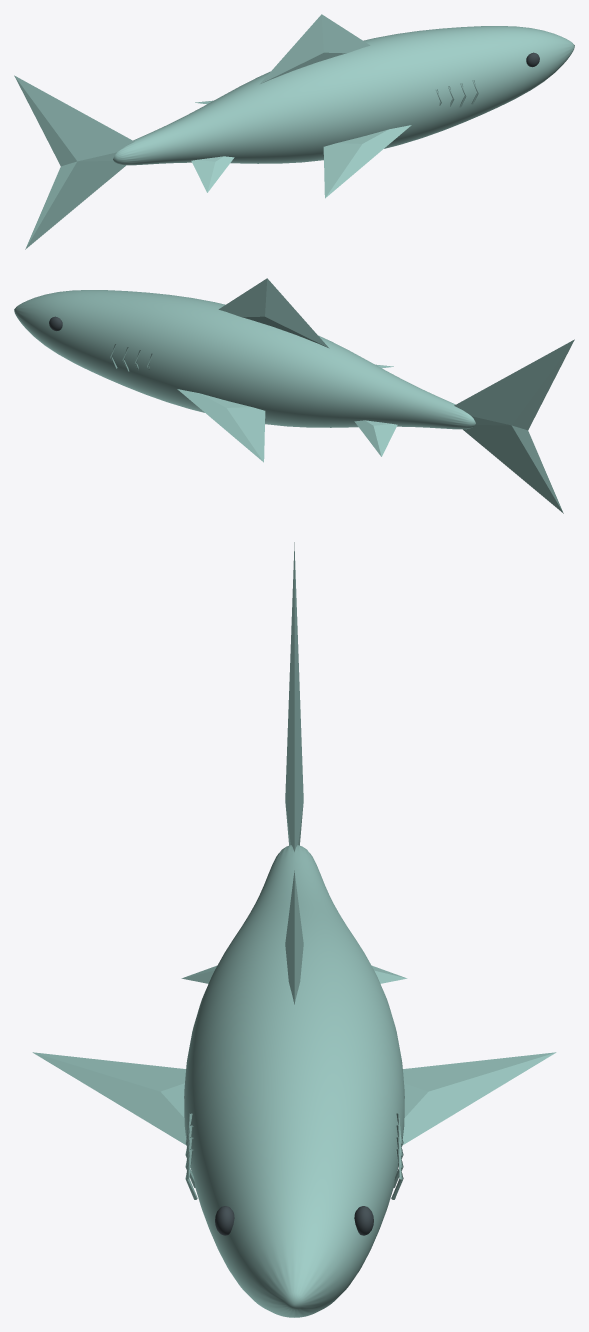
3 views of the same model, one above another, from view 1: azimuth 30°, elevation 25°; view 2: azimuth 150°, elevation 25°; view 3: azimuth 270°, elevation 25° (orthographic). The views are drawn at different scales.
Visible parts, largest first — view 1: Body, Tail, Dorsal, Pectoral, Pelvic; view 2: Body, Tail, Dorsal, Pectoral.001, Pelvic.001; view 3: Body, Pectoral.001, Pectoral, Tail, Dorsal.
Boxes of the visible parts, x1,y1,x2,y2 form: Body: (113, 26, 574, 165); Tail: (14, 75, 134, 249); Dorsal: (259, 14, 370, 84); Pectoral: (323, 125, 411, 198); Pelvic: (191, 156, 234, 192); Body: (14, 290, 475, 429); Tail: (454, 339, 574, 513); Dorsal: (218, 278, 329, 348); Pectoral.001: (177, 389, 265, 462); Pelvic.001: (354, 420, 397, 456); Body: (184, 845, 404, 1317); Pectoral.001: (402, 1052, 556, 1145); Pectoral: (32, 1052, 185, 1144); Tail: (285, 542, 303, 851); Dorsal: (285, 870, 303, 1004).
Size of the model in its own units: 252 by 76 by 102.
